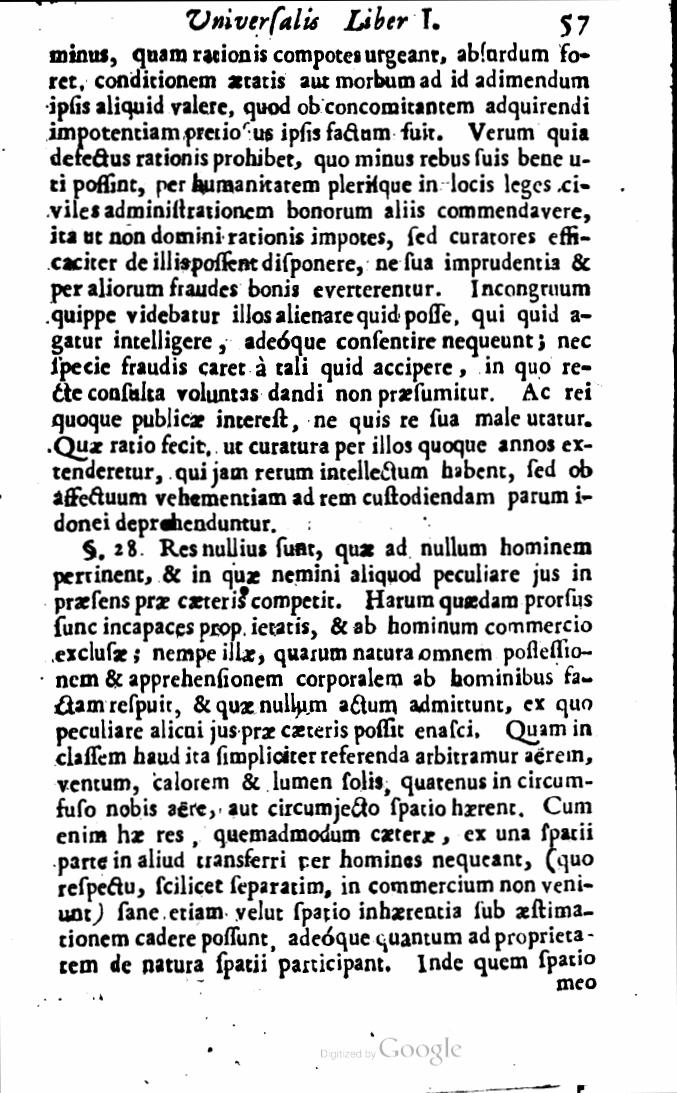bottom_p: (47, 41, 596, 536)
catchword: (556, 976, 597, 991)
header: (186, 6, 441, 37)
page_num: (559, 11, 590, 40)
top_p: (53, 533, 599, 976)
